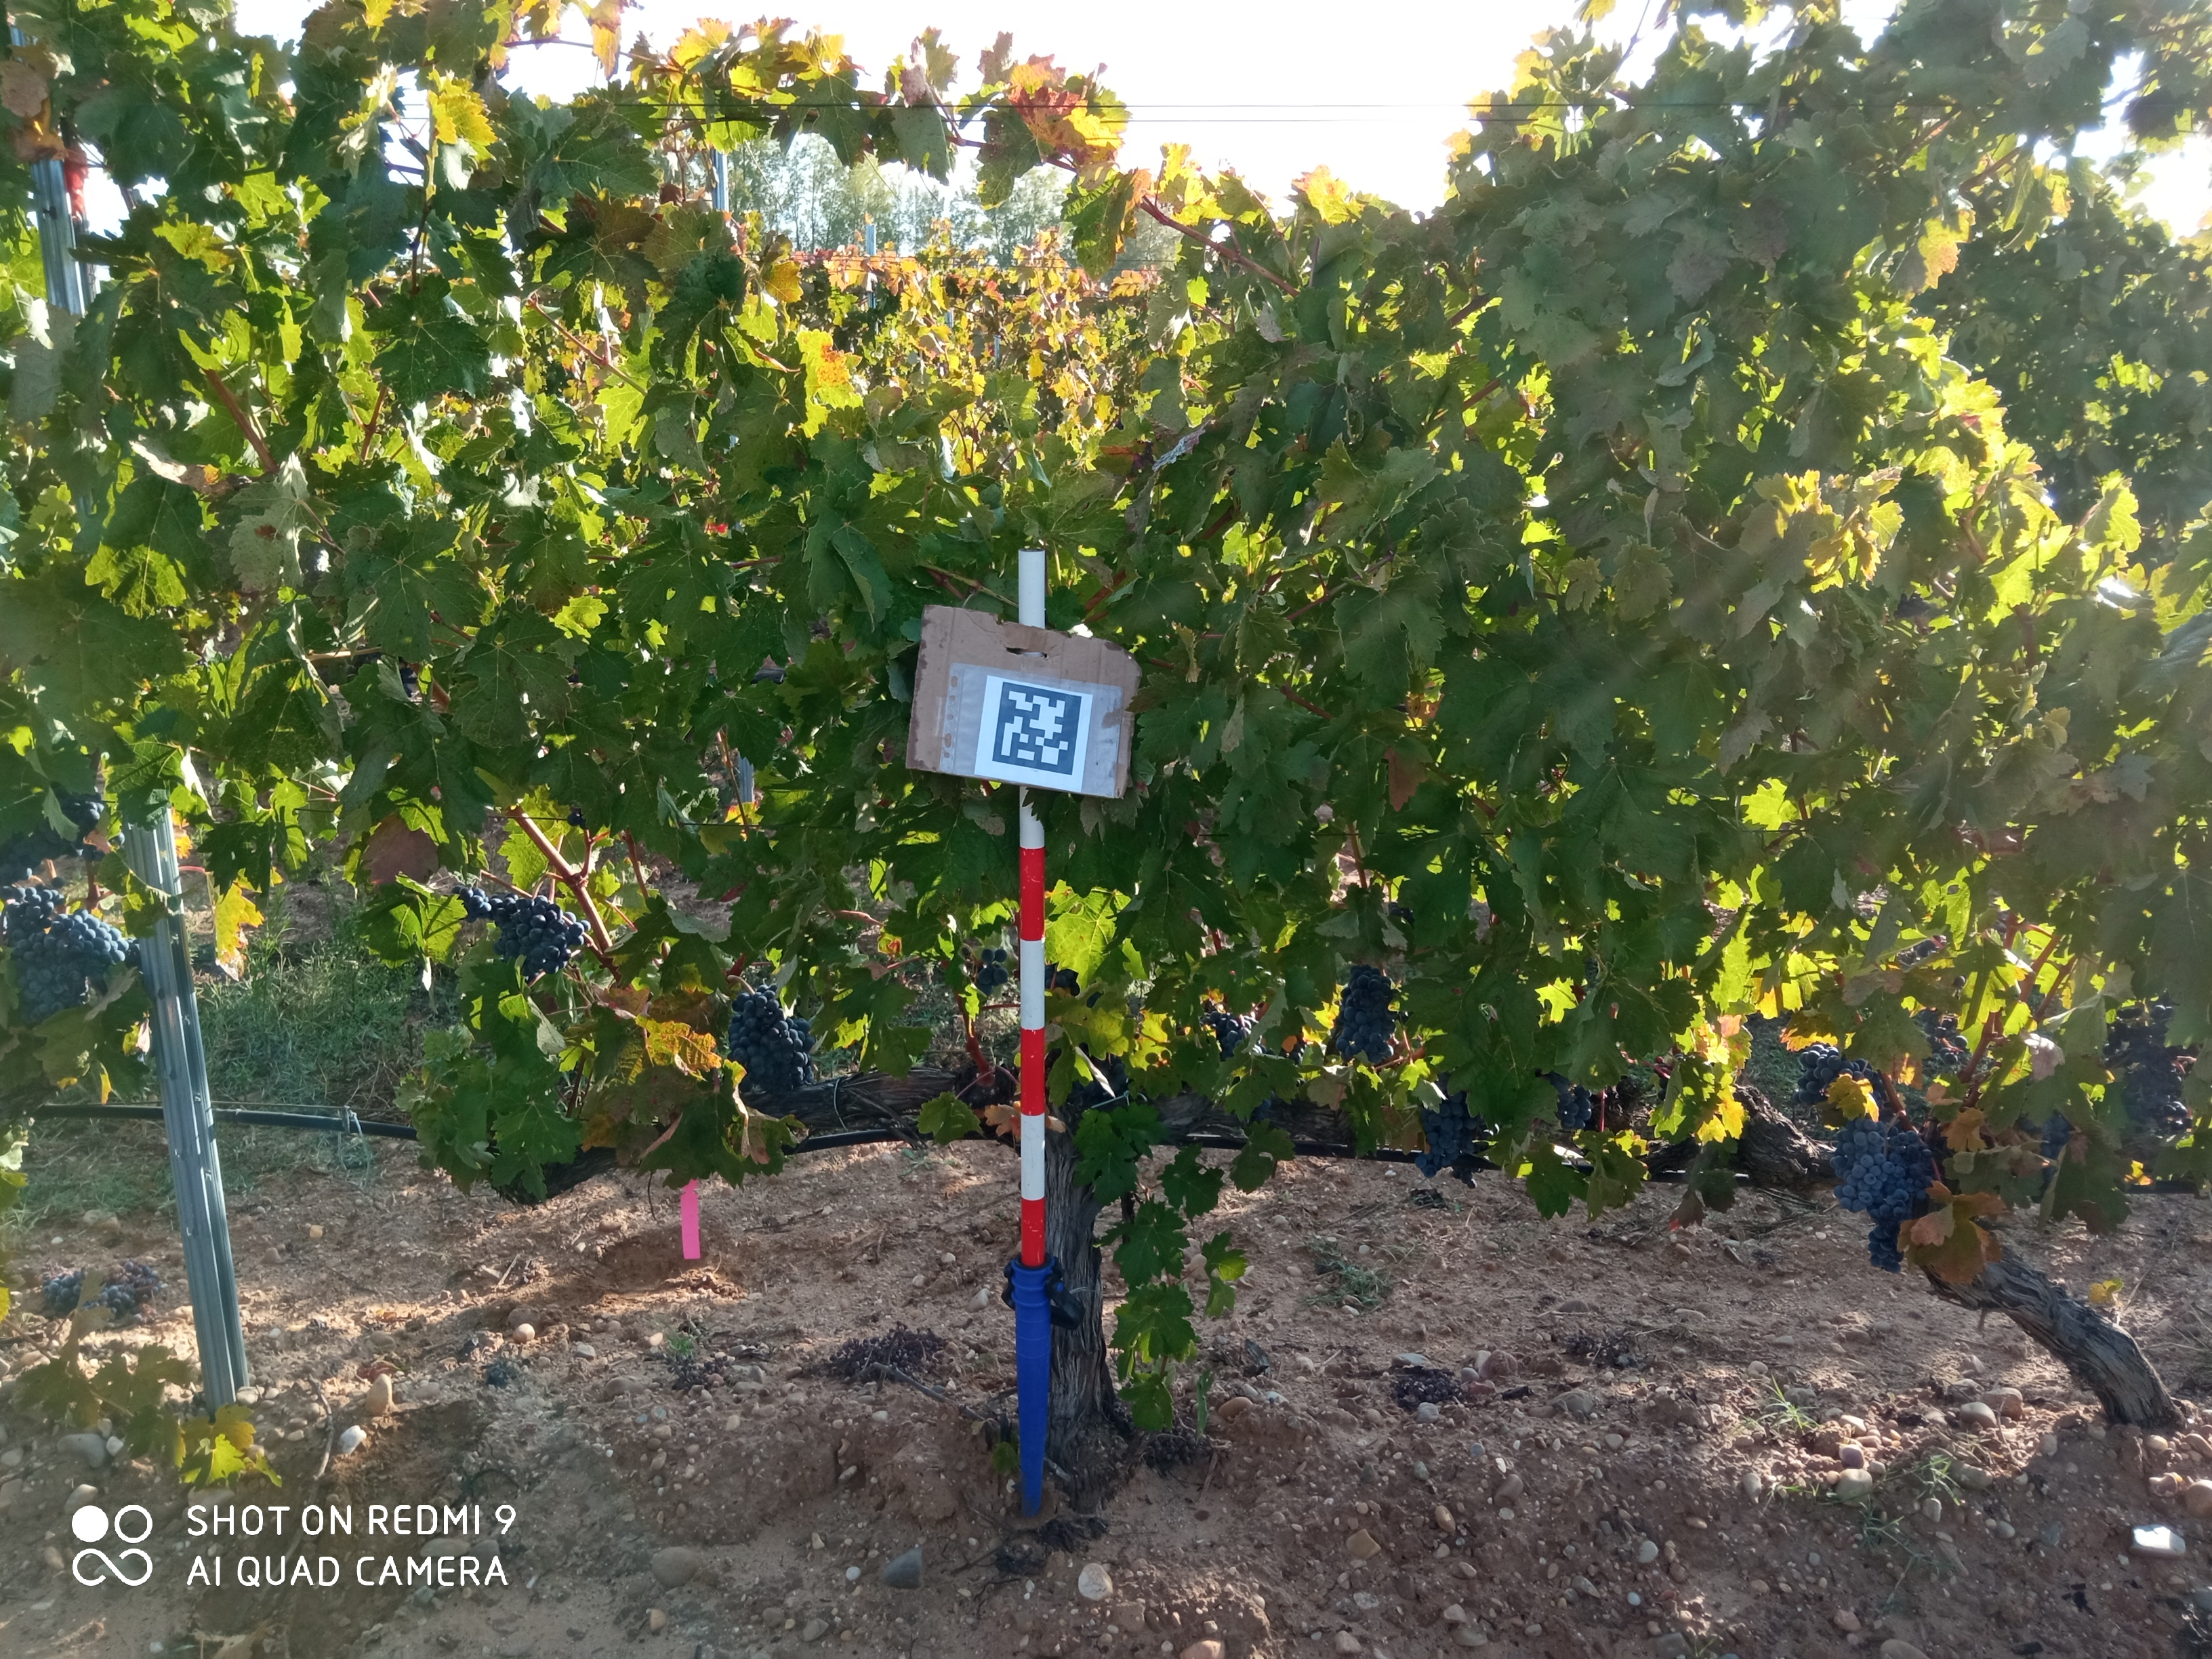grapes: (0, 910, 129, 1025), (453, 885, 590, 979), (0, 793, 125, 885), (2104, 1004, 2191, 1133), (728, 985, 815, 1094), (1867, 1126, 1932, 1274), (1416, 1073, 1484, 1178), (1336, 964, 1399, 1061), (1831, 1119, 1893, 1213), (1792, 1046, 1886, 1105), (0, 877, 66, 946), (1198, 1011, 1263, 1058), (1548, 1073, 1592, 1129), (1923, 1012, 1966, 1065), (1075, 1058, 1123, 1093), (2041, 1117, 2069, 1178), (977, 950, 1008, 995), (1451, 1168, 1486, 1188), (1254, 1091, 1275, 1122), (1268, 1044, 1305, 1061), (1047, 965, 1073, 988), (1918, 936, 1944, 957), (1390, 901, 1413, 922), (568, 809, 587, 828), (129, 936, 139, 965), (1087, 992, 1101, 1007), (1658, 1077, 1667, 1100), (1956, 978, 1965, 986), (1296, 1079, 1306, 1086)
